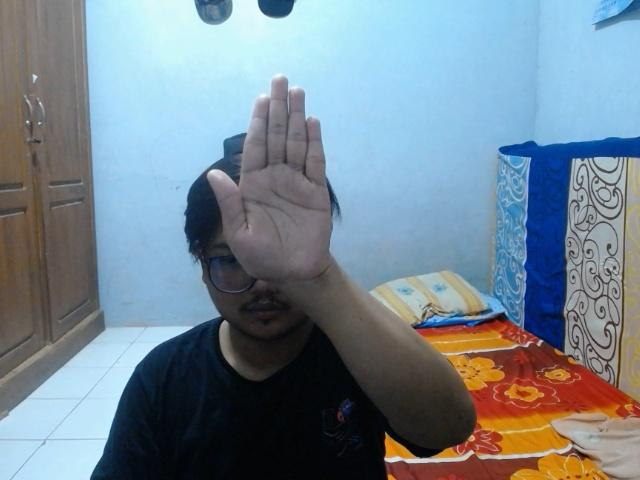Release: (204, 69, 334, 287)
